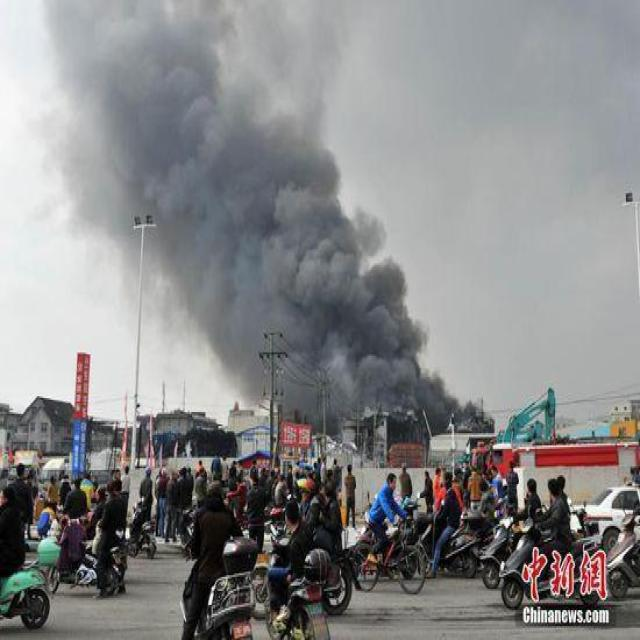smoke: (32, 0, 496, 435)
